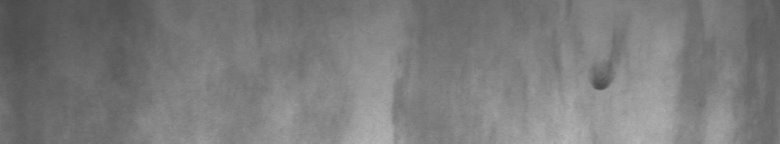fi: (556, 61, 612, 96)
